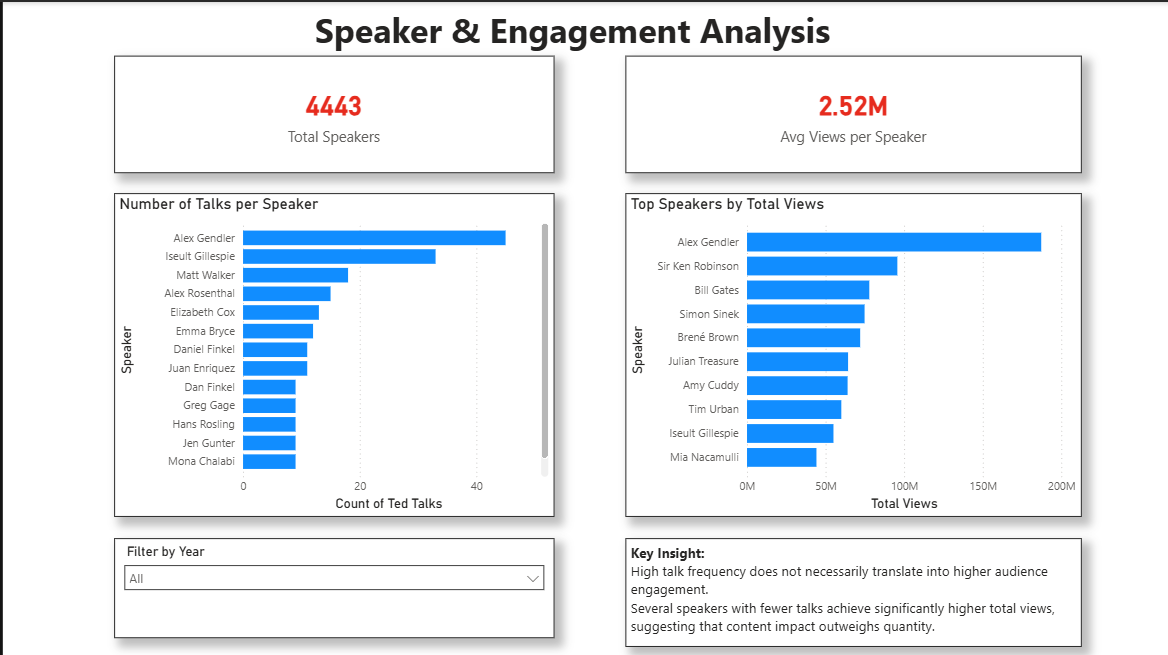

This screenshot's page, from the dashboard's own definition file:
{"tool":"powerbi","page":{"name":"SPEAKER & ENGAGEMENT ANALYSIS","canvas":[1280,720],"ordinal":1},"visuals":[{"type":"textbox","box":[247,0,756.1,74.1],"z":0},{"type":"card","fields":{"Values":["Count(VW_TED_TALKS_ENRICHED.speaker)"]},"box":[122.1,59,483,129],"z":1},{"type":"card","fields":{"Values":["Measure.Avg Views per Speaker"]},"box":[683.4,59,500.9,129],"z":2},{"type":"clusteredBarChart","title":"Number of Talks per Speaker","fields":{"Category":["VW_TED_TALKS_ENRICHED.speaker"],"Y":["Count(VW_TED_TALKS_ENRICHED.ted_talks_title)"]},"box":[122.1,209.9,483,355.4],"z":3},{"type":"clusteredBarChart","title":"Top Speakers by Total Views","fields":{"Category":["VW_TED_TALKS_ENRICHED.speaker"],"Y":["Sum(VW_TED_TALKS_ENRICHED.total_views)"]},"box":[683.4,209.9,500.9,355.4],"z":4},{"type":"slicer","fields":{"Values":["VW_TED_TALKS_ENRICHED.talk_year"]},"box":[122.1,588.7,483,109.8],"z":5},{"type":"textbox","box":[683.4,588.7,500.9,119.4],"z":6}]}

Visuals, with their boxes in screenshot pixels (x1, y1, x2, y2), scaled from the page's 1280x720 canvas onto the 1168x655 screenshot:
textbox: left=225, top=0, right=915, bottom=67
card - Count(VW_TED_TALKS_ENRICHED.speaker): left=111, top=54, right=552, bottom=171
card - Measure.Avg Views per Speaker: left=624, top=54, right=1081, bottom=171
"Number of Talks per Speaker" clusteredBarChart: left=111, top=191, right=552, bottom=514
"Top Speakers by Total Views" clusteredBarChart: left=624, top=191, right=1081, bottom=514
slicer - VW_TED_TALKS_ENRICHED.talk_year: left=111, top=536, right=552, bottom=635
textbox: left=624, top=536, right=1081, bottom=644
